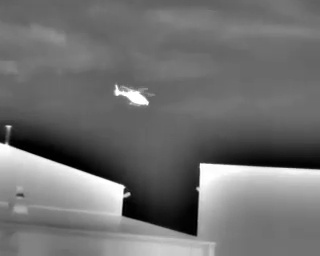HELICOPTER: (112, 79, 161, 114)
